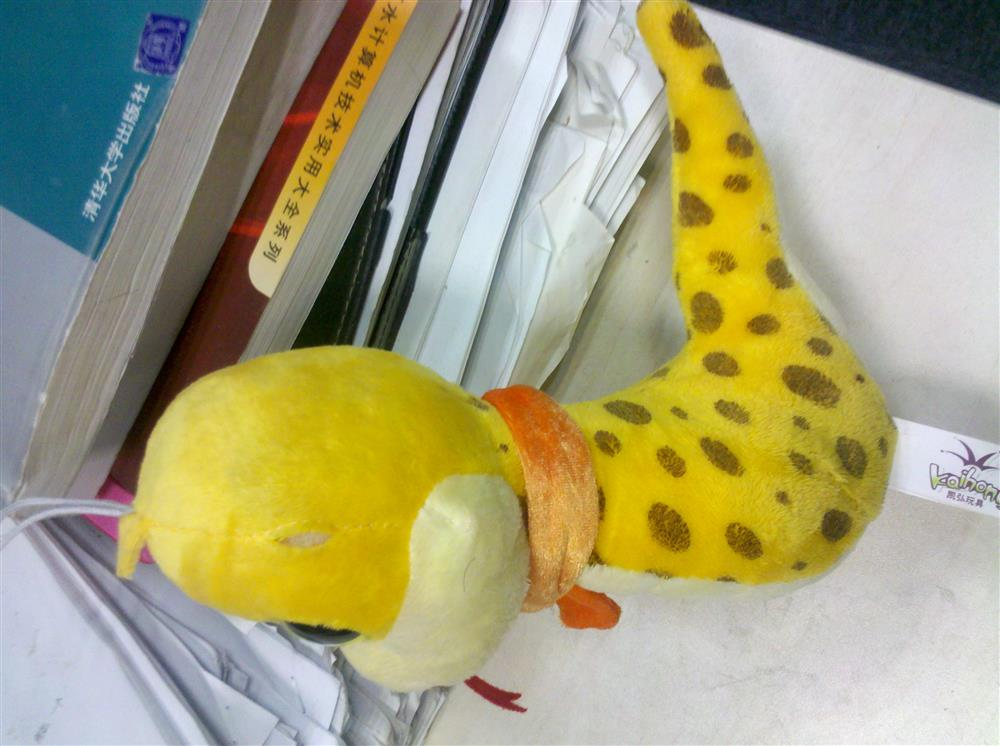toy_snake: (138, 5, 897, 695)
